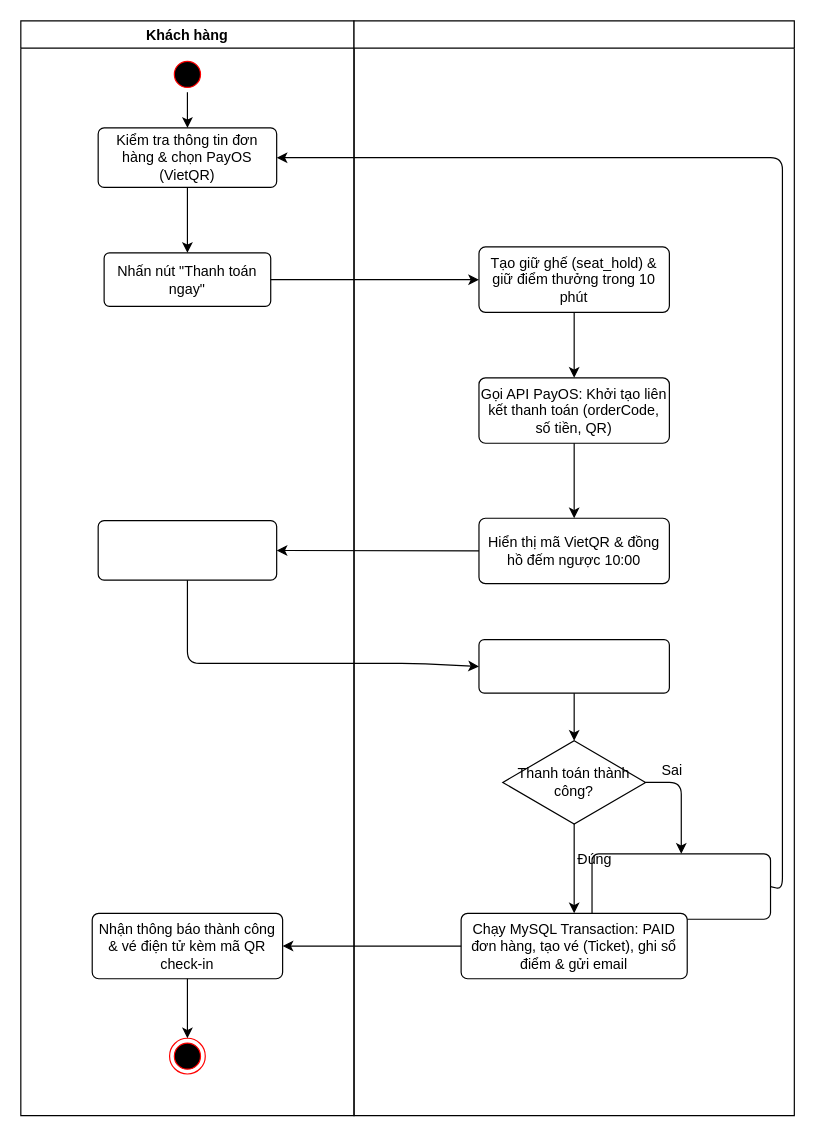
Image size: 815x1136. Some labels were removed from this diagram. Here are the shapes that lost their labels. From the top down, the box of each, then its label:
(97, 519, 277, 580): Quét mã VietQR trên App ngân hàng & chuyển khoản
(353, 20, 794, 1116): Hệ thống (Web, Server & PayOS)
(478, 638, 669, 693): Nhận Webhook PayOS xác nhận chuyển khoản
(591, 853, 771, 919): Hủy giữ ghế, hoàn điểm giữ & báo giao dịch hết hạn
